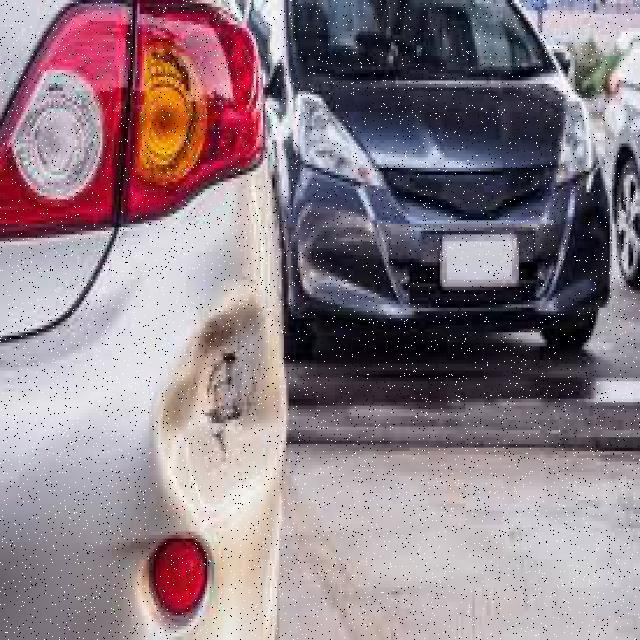rear-bumper-dent: (0, 209, 307, 636)
